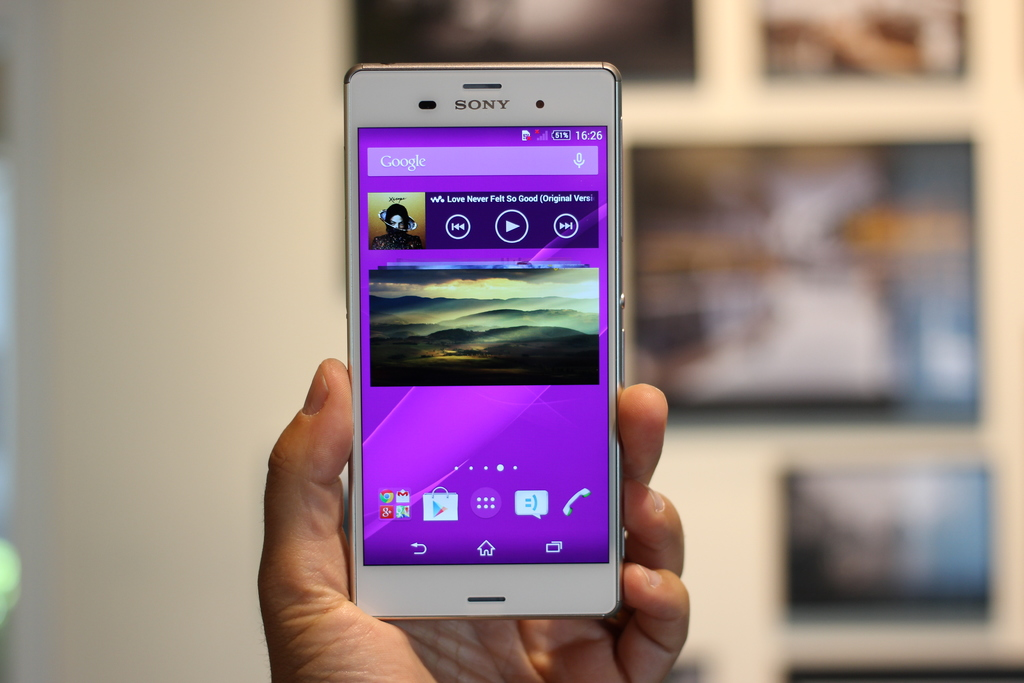Mobile-phone: (344, 54, 626, 621)
